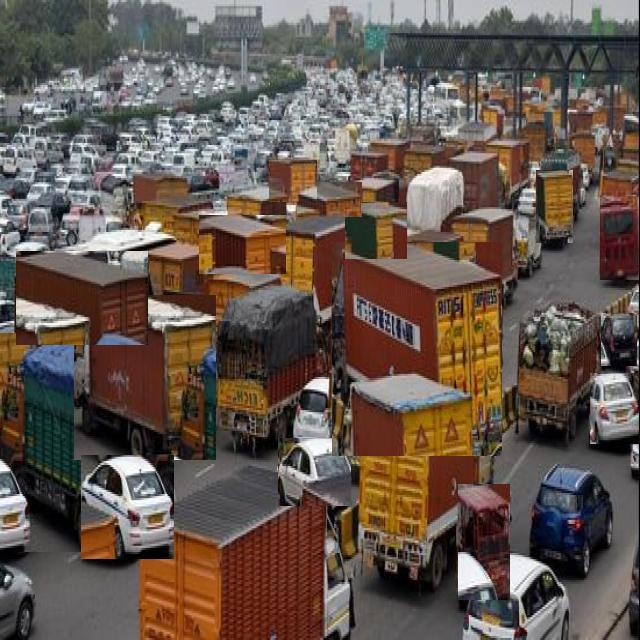autorickshaw: (458, 485, 509, 600)
bus: (600, 196, 639, 280)
car: (81, 456, 174, 559), (463, 552, 570, 639), (530, 465, 614, 575), (278, 439, 350, 506), (590, 374, 639, 444), (294, 376, 330, 439), (601, 314, 636, 366)
truck: (141, 467, 354, 639), (332, 242, 501, 456), (360, 374, 495, 587), (0, 334, 110, 552), (74, 296, 216, 460), (217, 285, 326, 447), (16, 252, 147, 345), (517, 303, 599, 442), (273, 216, 357, 310), (453, 207, 517, 301), (199, 216, 285, 274), (144, 243, 213, 296), (345, 203, 406, 259), (536, 171, 573, 243), (297, 183, 361, 217), (269, 161, 316, 202), (226, 187, 286, 219)
